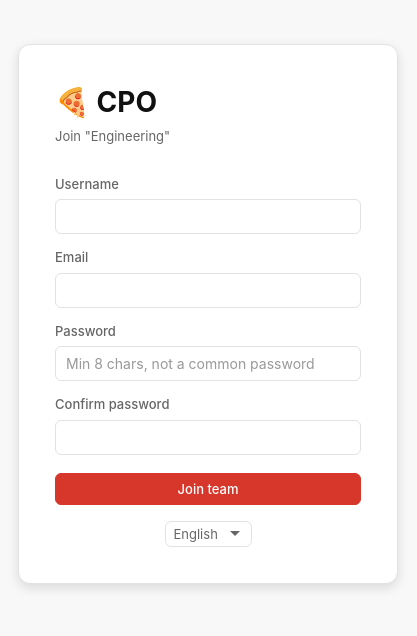
Test: JoinPage › shows the server error on failed join
Step 1. Type "newcpo" into the field labelled "Username" → (208, 217), box left=55, top=199, right=361, bottom=234
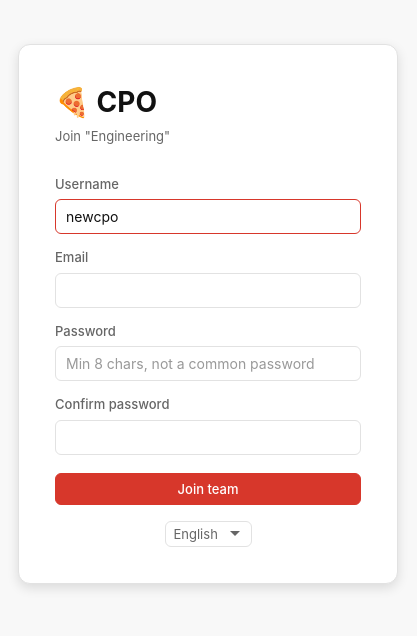
Step 2. Type "newcpo@example.com" into the field labelled "Email" → (208, 290), box left=55, top=273, right=361, bottom=308
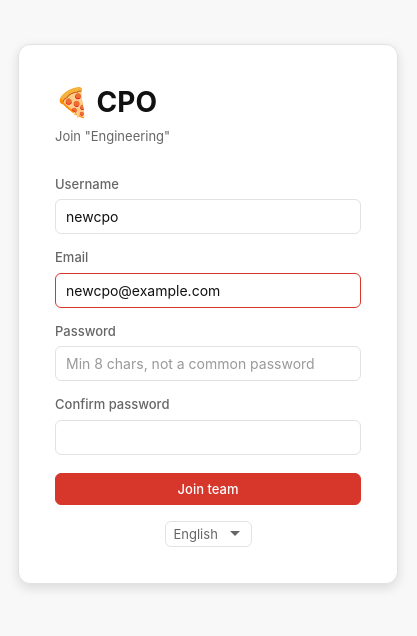
Step 3. Type "password1" into the password field labelled "Password" → (208, 364), box left=55, top=346, right=361, bottom=381
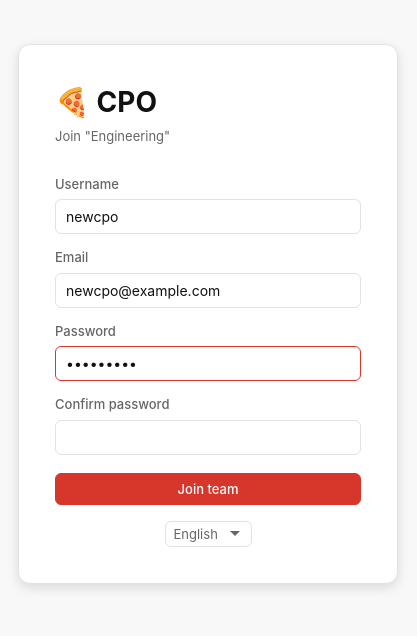
Step 4. Type "password1" into the password field labelled "Confirm password" → (208, 437), box left=55, top=420, right=361, bottom=455
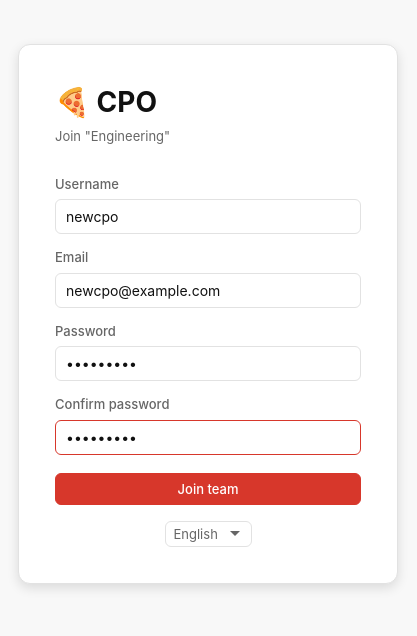
Step 5. Click the button "Join team" → (208, 489), box left=55, top=473, right=361, bottom=505
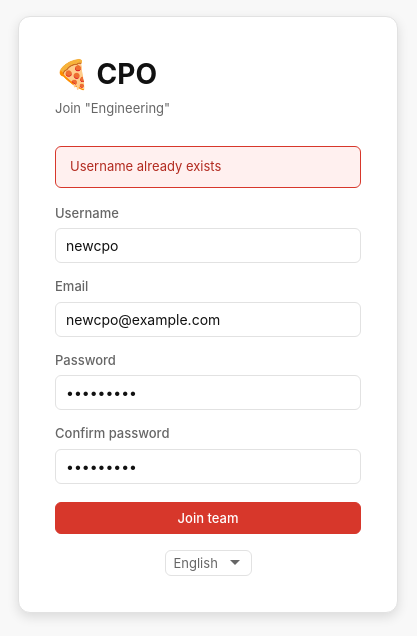
Check: the text "Username already exists" is shown, box left=55, top=146, right=361, bottom=188
